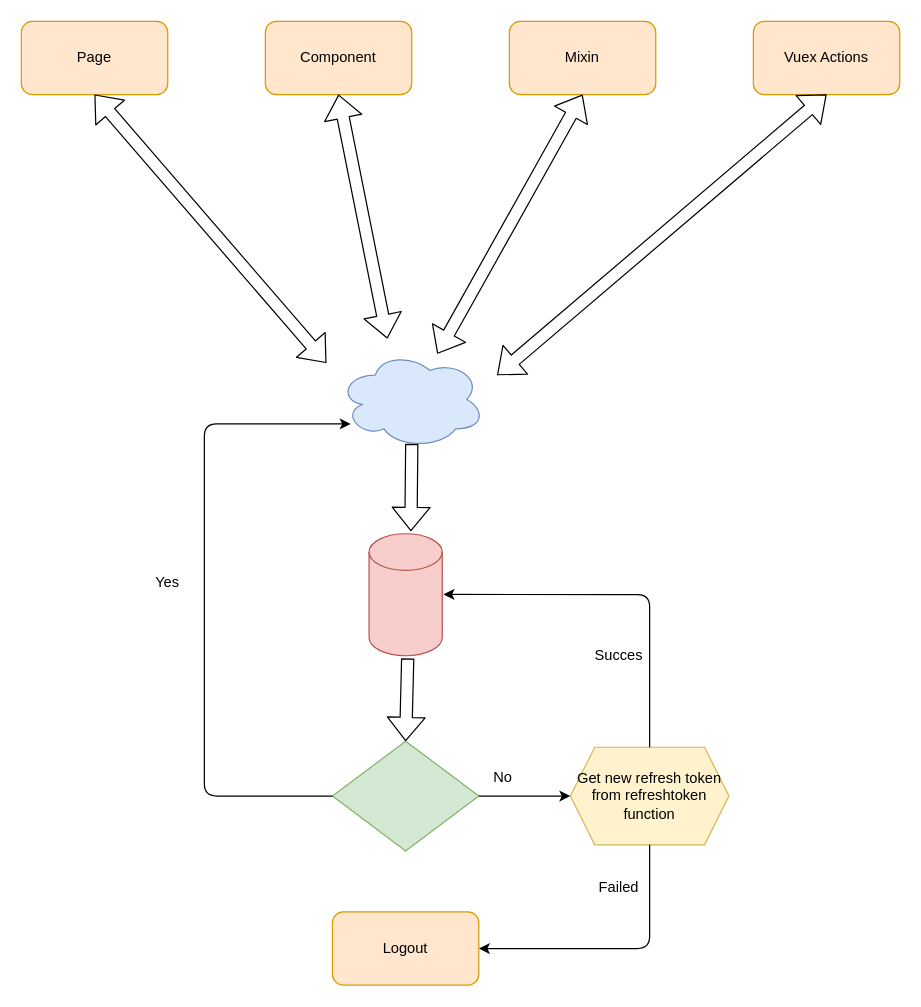
This 921x1007 diagram has some shape labels left out. The centre of each missing label's shape, as x and y in pixels:
Apicall (Axios Methods): point (405, 594)
If axios call returns success: point (405, 795)
Service Layer: point (411, 399)
